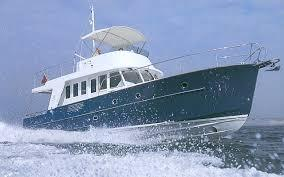Ship: (15, 27, 267, 161)
